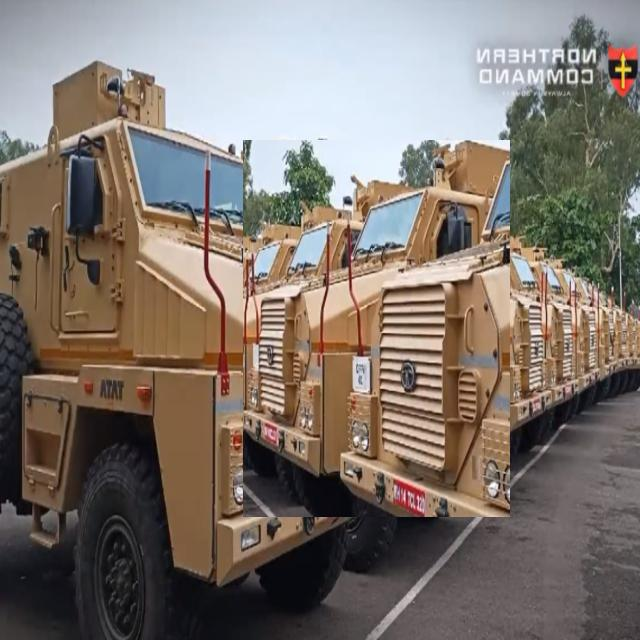truck: (0, 62, 411, 637), (243, 140, 509, 517)
